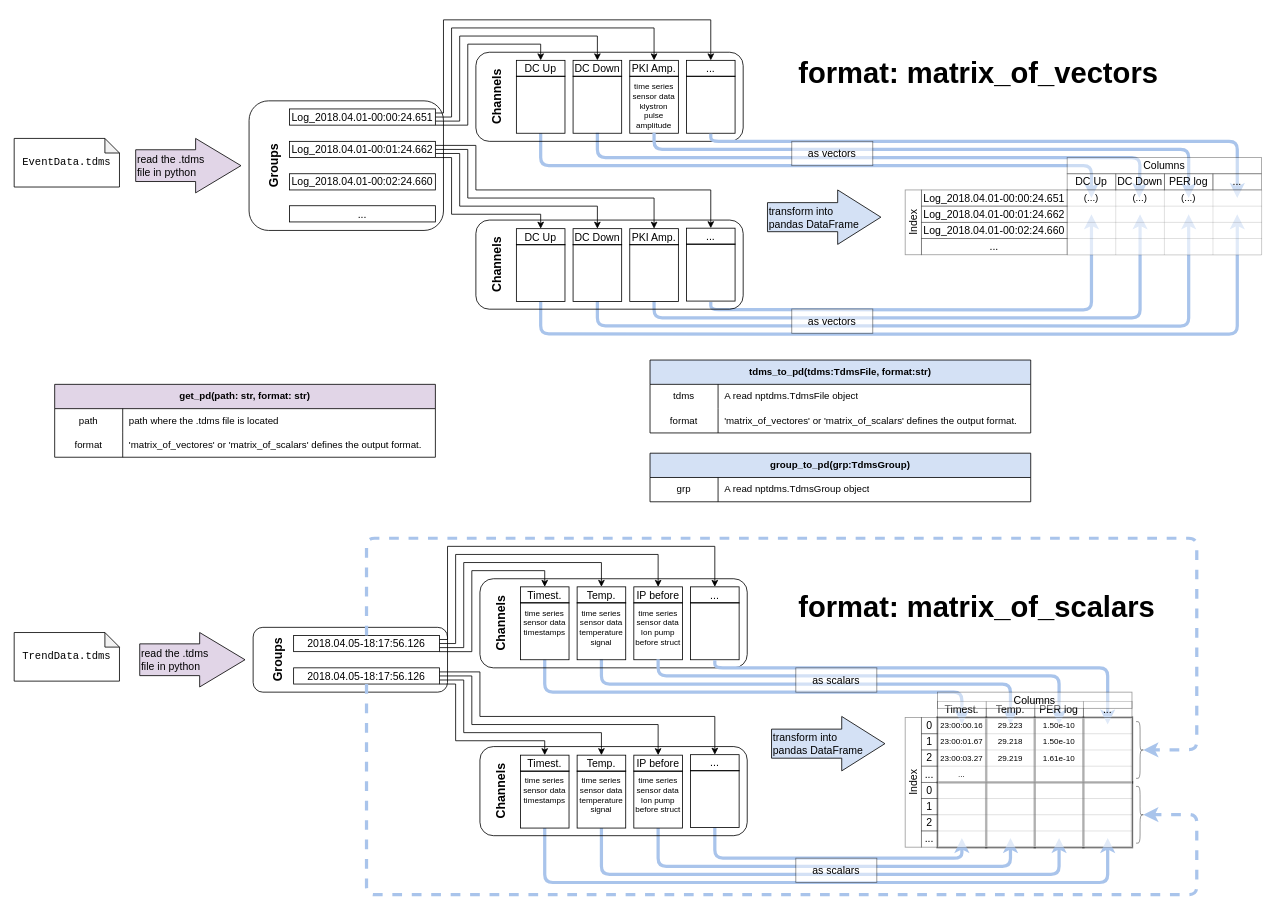
This 1276x917 diagram has some shape labels left out. Each missing label, with the centre of its shape:
time series sensor data downstream Farady cup signal: pixel 597 104
time series sensor data upstream Farady cup signal: pixel 540 104
